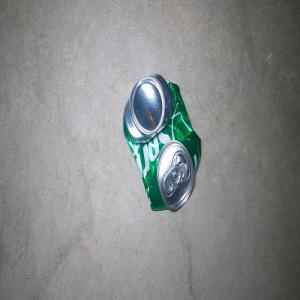SodaCan: (122, 72, 201, 211)
